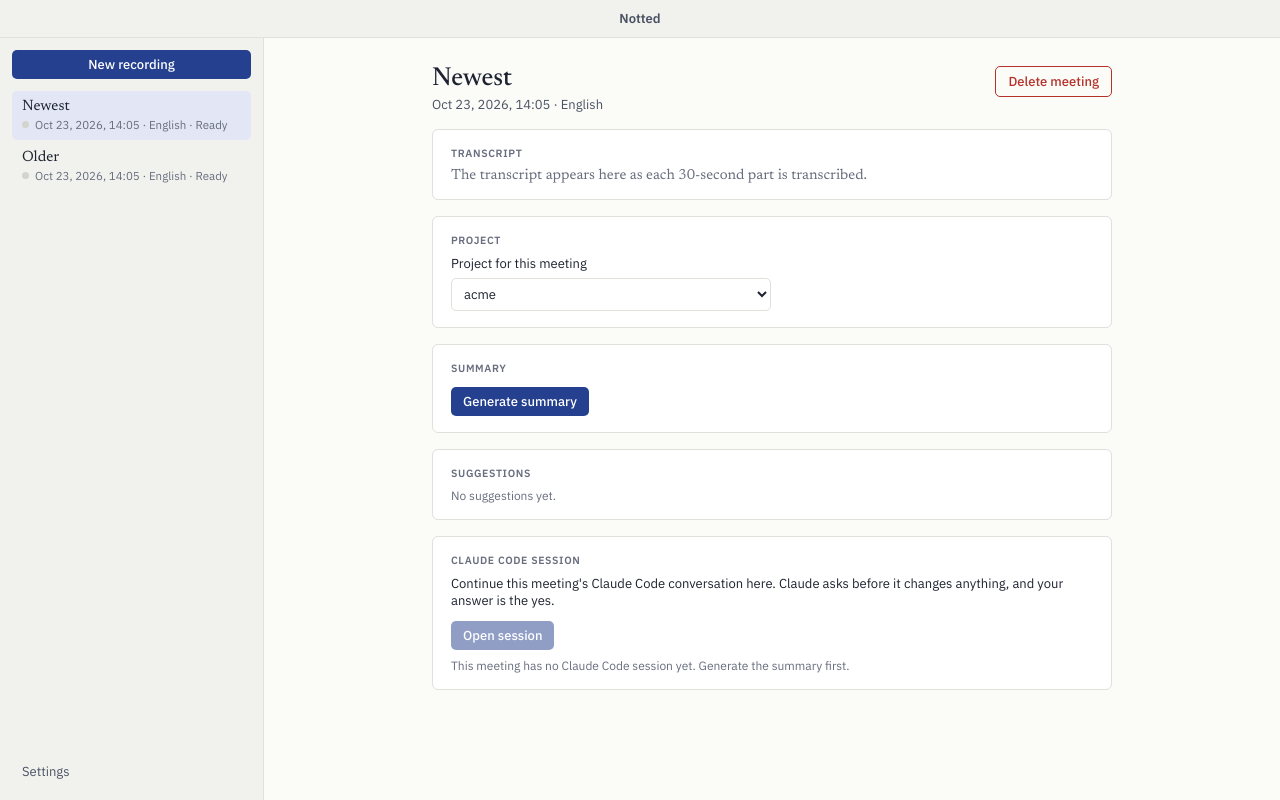
Test: deleting a meeting › goes to New recording when the list is empty
Expected: the heading "Newest" is shown, [432, 66, 512, 92]
Click the button "Delete meeting": coordinates (1054, 82) [995, 66, 1112, 97]
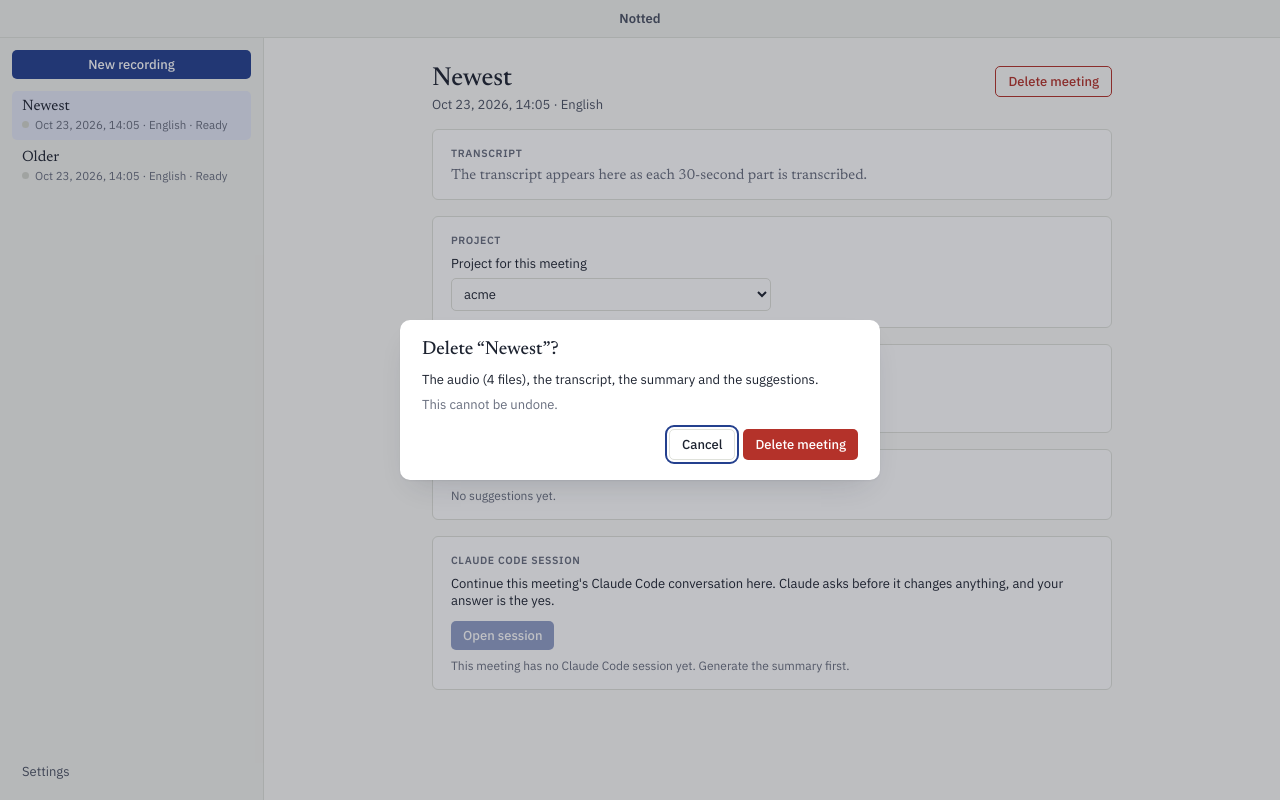
Click the button "Delete meeting": coordinates (801, 444) [743, 429, 858, 460]
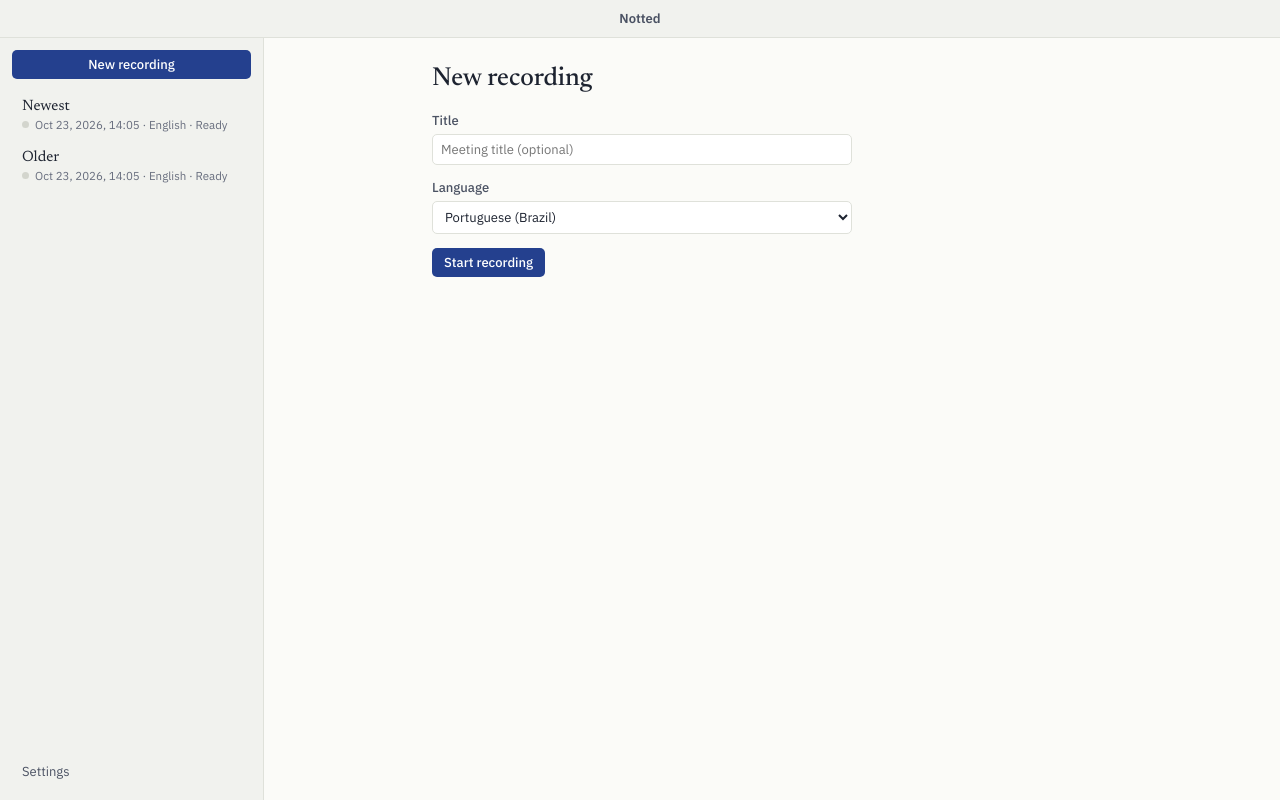
Expected: the heading "New recording" is shown, [432, 66, 593, 92]
